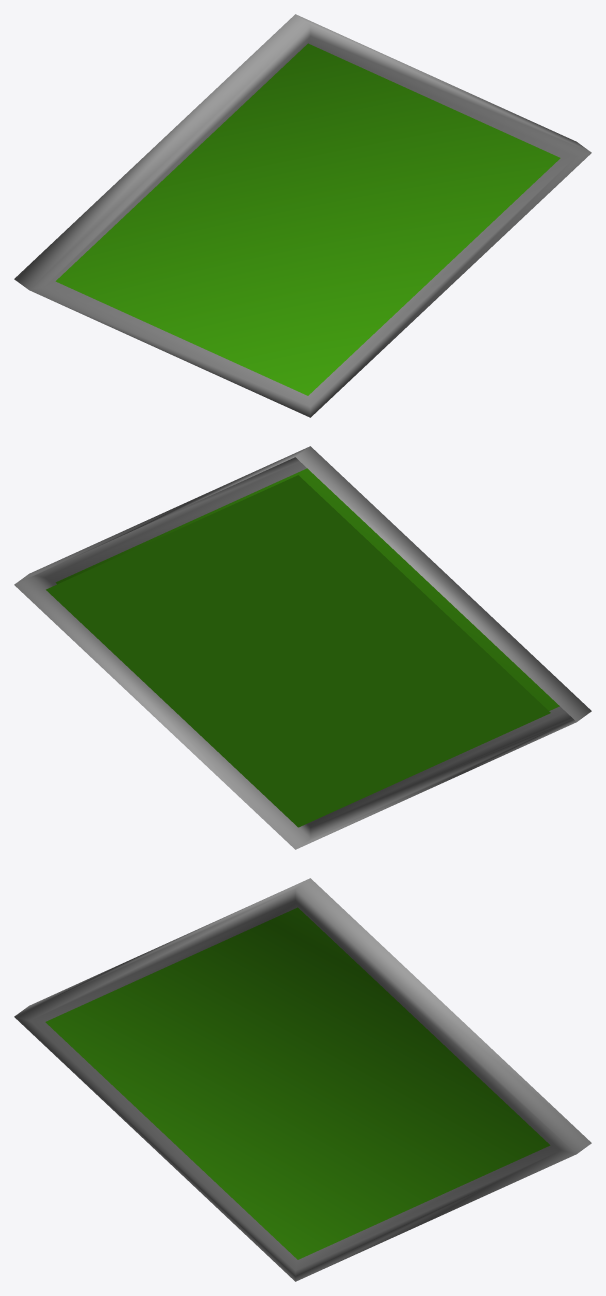
The model's file is GreenBet.glb.
3 renders of one model, top to bottom at view 1: azimuth 30°, elevation 25°; view 2: azimuth 150°, elevation 25°; view 3: azimuth 330°, elevation 25°, orthographic.
Parts seen in each view (by area): view 1: GreenBet; view 2: GreenBet; view 3: GreenBet.
Boxes of the visible parts, x1,y1,x2,y2 form: GreenBet: (14,14,591,417); GreenBet: (14,446,591,849); GreenBet: (14,878,591,1281).
Size of the model in its own units: 0.3341 by 0.2227 by 0.0155.
1 material, 1 textured.
